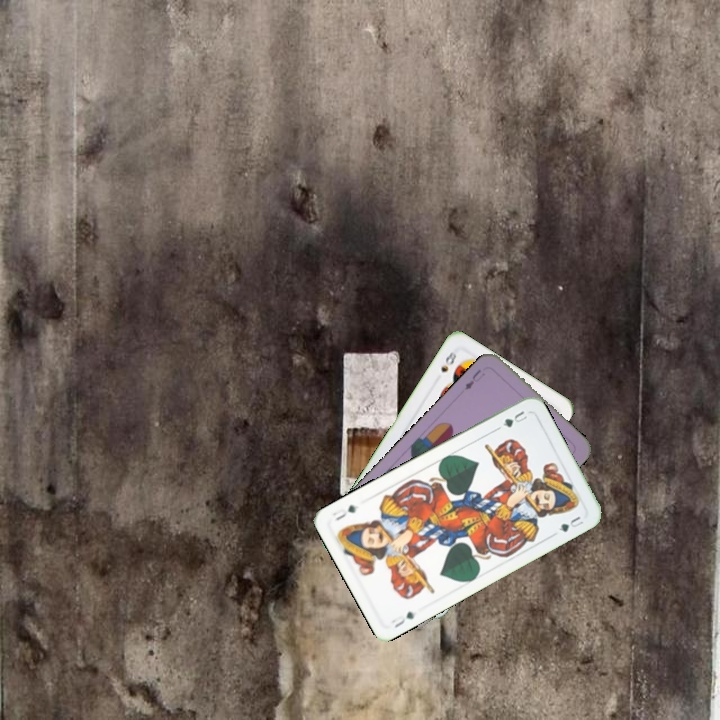EU: (460, 365, 486, 393)
GU: (499, 406, 530, 430), (388, 607, 418, 631)
S8: (437, 347, 459, 375)
